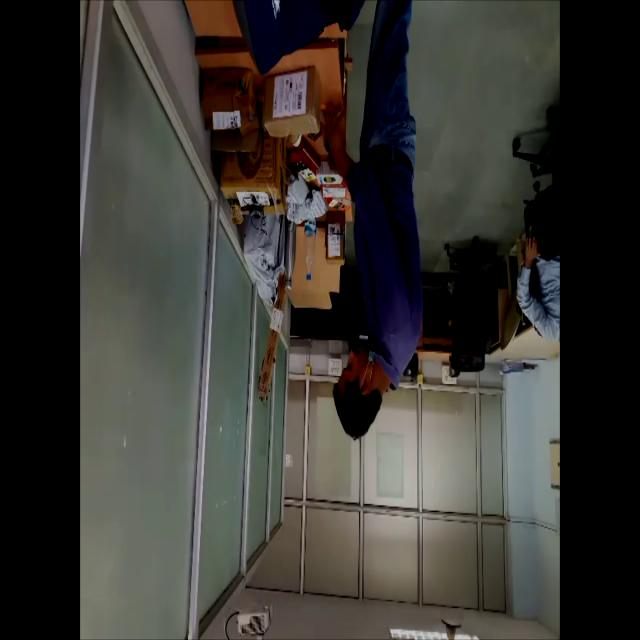normal: (312, 0, 425, 459)
